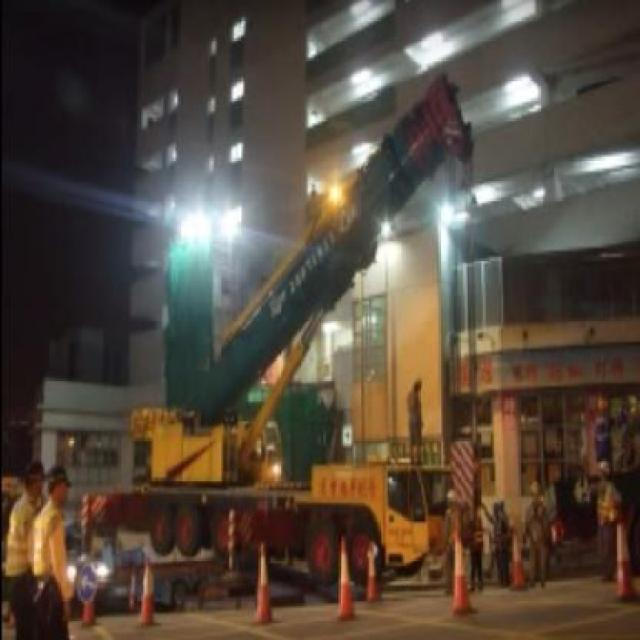Mobile Crane: (78, 75, 473, 583)
